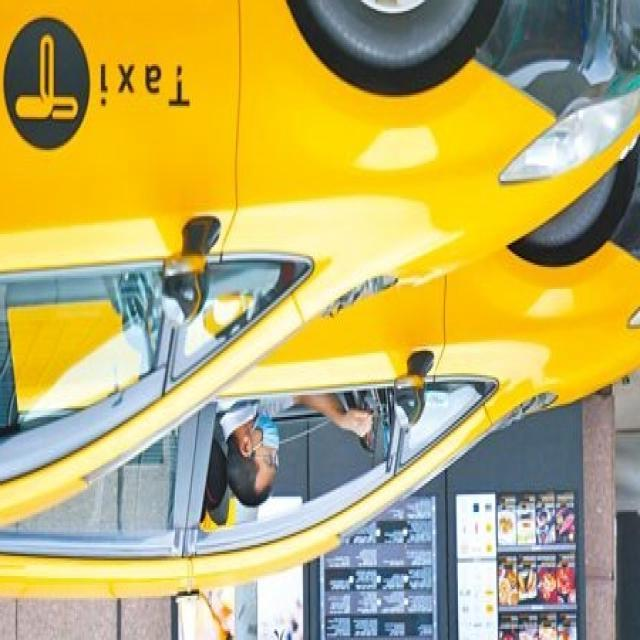taxi: (1, 14, 632, 515), (5, 266, 621, 601)
